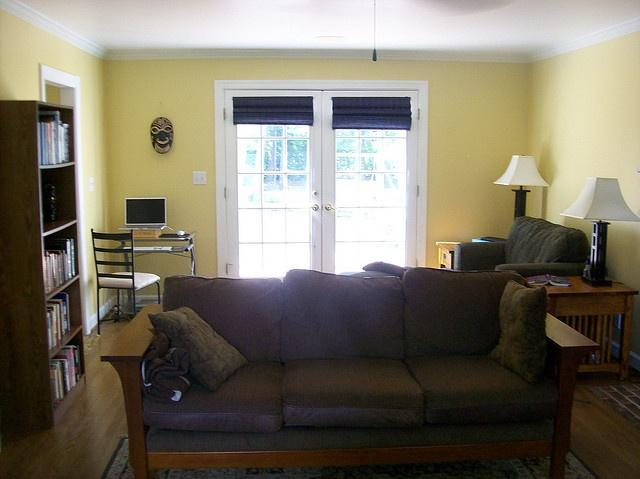AIO PC-Monitor-TV: (123, 196, 166, 227)
Kursi: (91, 227, 161, 333)
Rak: (0, 99, 87, 427)
